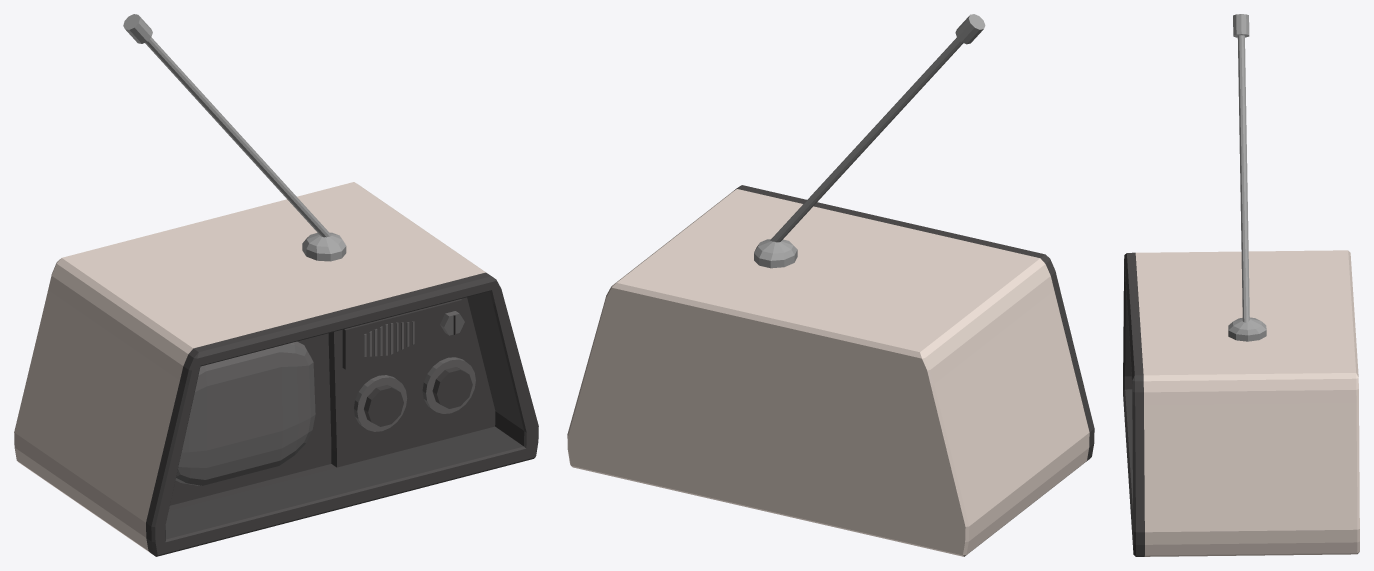
3 renders of one model, left to right at view 1: azimuth 30°, elevation 25°; view 2: azimuth 150°, elevation 25°; view 3: azimuth 270°, elevation 25°, orthographic. The views are drawn at different scales.
Parts seen in each view (by area): view 1: TV_2; view 2: TV_2; view 3: TV_2.
Boxes of the visible parts, bbox=[...] form: TV_2: bbox=[14, 14, 538, 556]; TV_2: bbox=[567, 14, 1094, 556]; TV_2: bbox=[1123, 14, 1359, 556].
Bounding box in the file's own units: 52.24 × 31.7 × 59.9.
